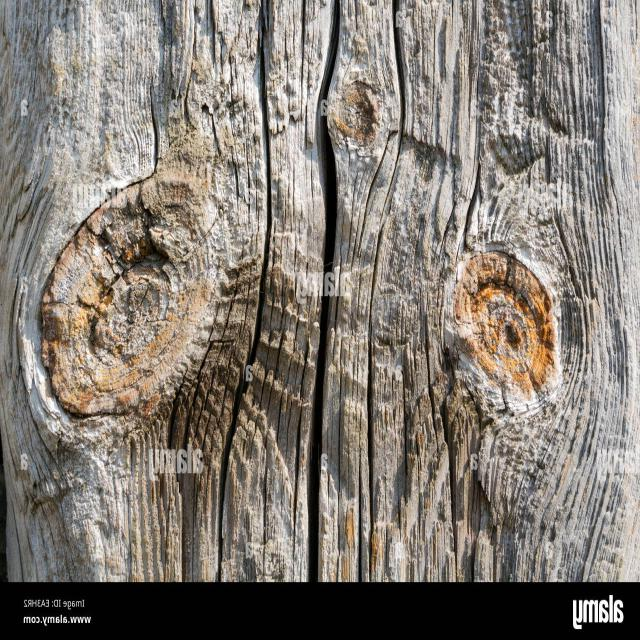have-wooden-eyes: (42, 179, 218, 415), (454, 251, 560, 415)
